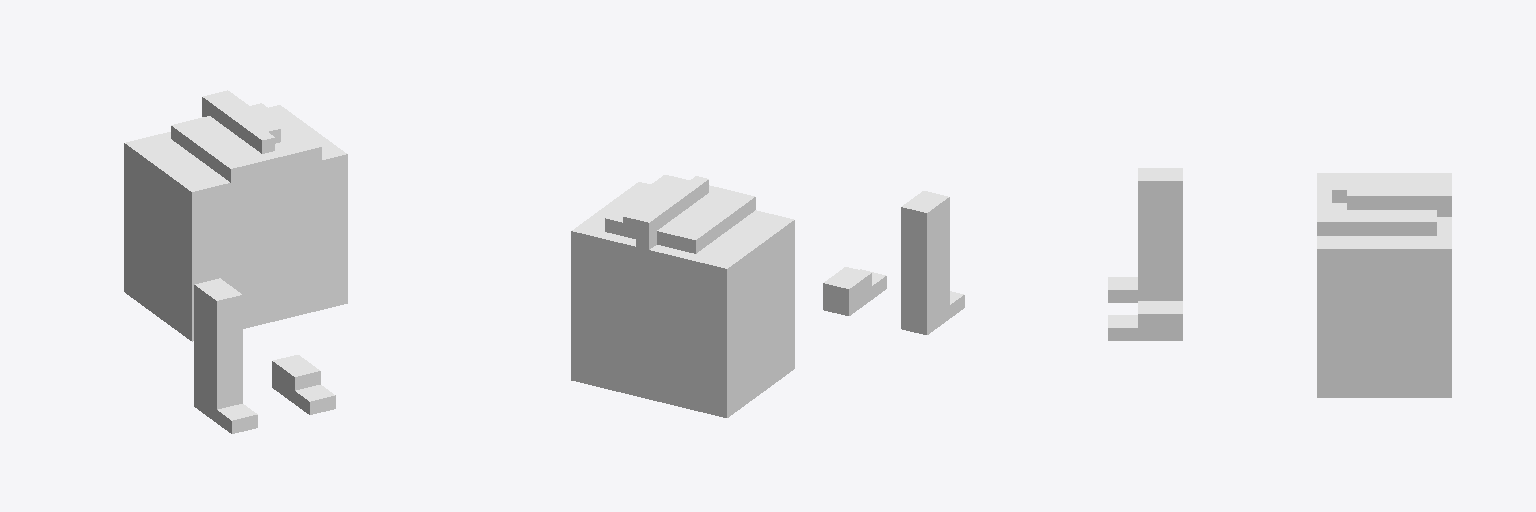
The model's file is voxel.obj.
The picture shows the model from 3 angles: view 1: azimuth 30°, elevation 25°; view 2: azimuth 150°, elevation 25°; view 3: azimuth 270°, elevation 25°; orthographic projection.
Parts seen in each view (by area): view 1: object 1; view 2: object 1; view 3: object 1.
Part boxes in pixels (x1,y1,x2,y2): object 1: (124, 90, 347, 433); object 1: (571, 175, 964, 417); object 1: (1108, 168, 1451, 397).
Size of the model in its own units: 1.7 by 1.3 by 2.3.